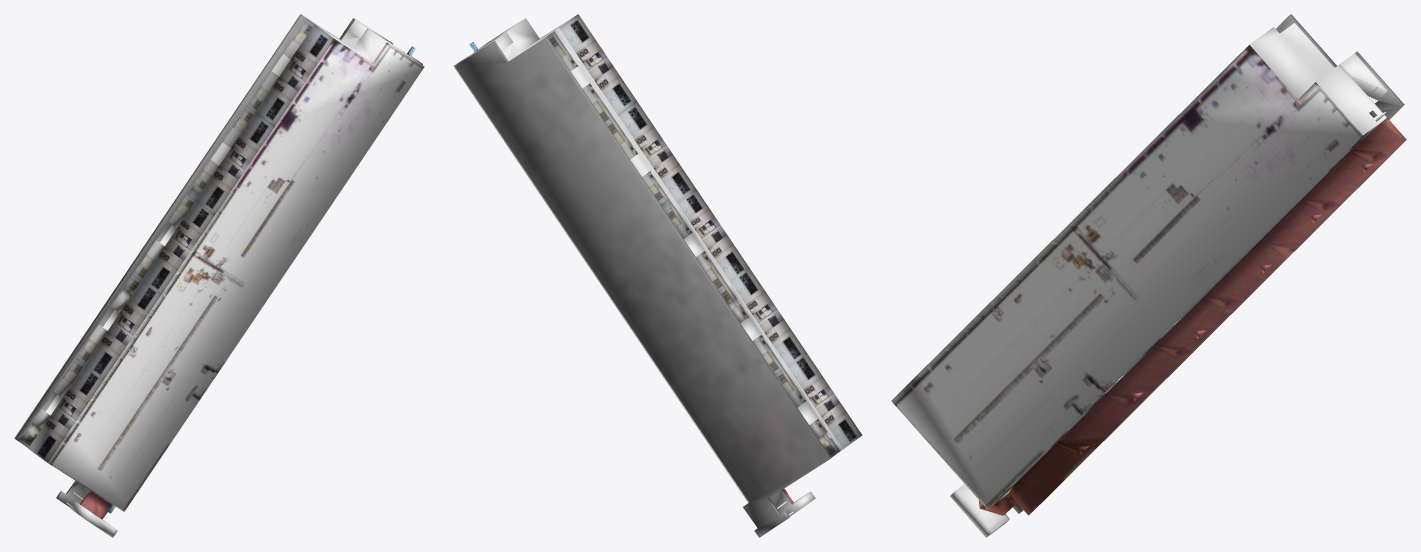
Rendered from amk_blk340_building.obj.
3 renders of one model, left to right at view 1: azimuth 30°, elevation 25°; view 2: azimuth 150°, elevation 25°; view 3: azimuth 330°, elevation 25°, orthographic. The views are drawn at different scales.
Parts seen in each view (by area): view 1: polygon.811; view 2: polygon.811; view 3: polygon.811.
Part boxes in pixels (bbox=[...]): polygon.811: bbox=[14, 14, 424, 537]; polygon.811: bbox=[453, 14, 862, 537]; polygon.811: bbox=[891, 14, 1406, 537].
Size of the model in its own units: 53.3 by 58.46 by 7.86.
1 material, 1 textured.
